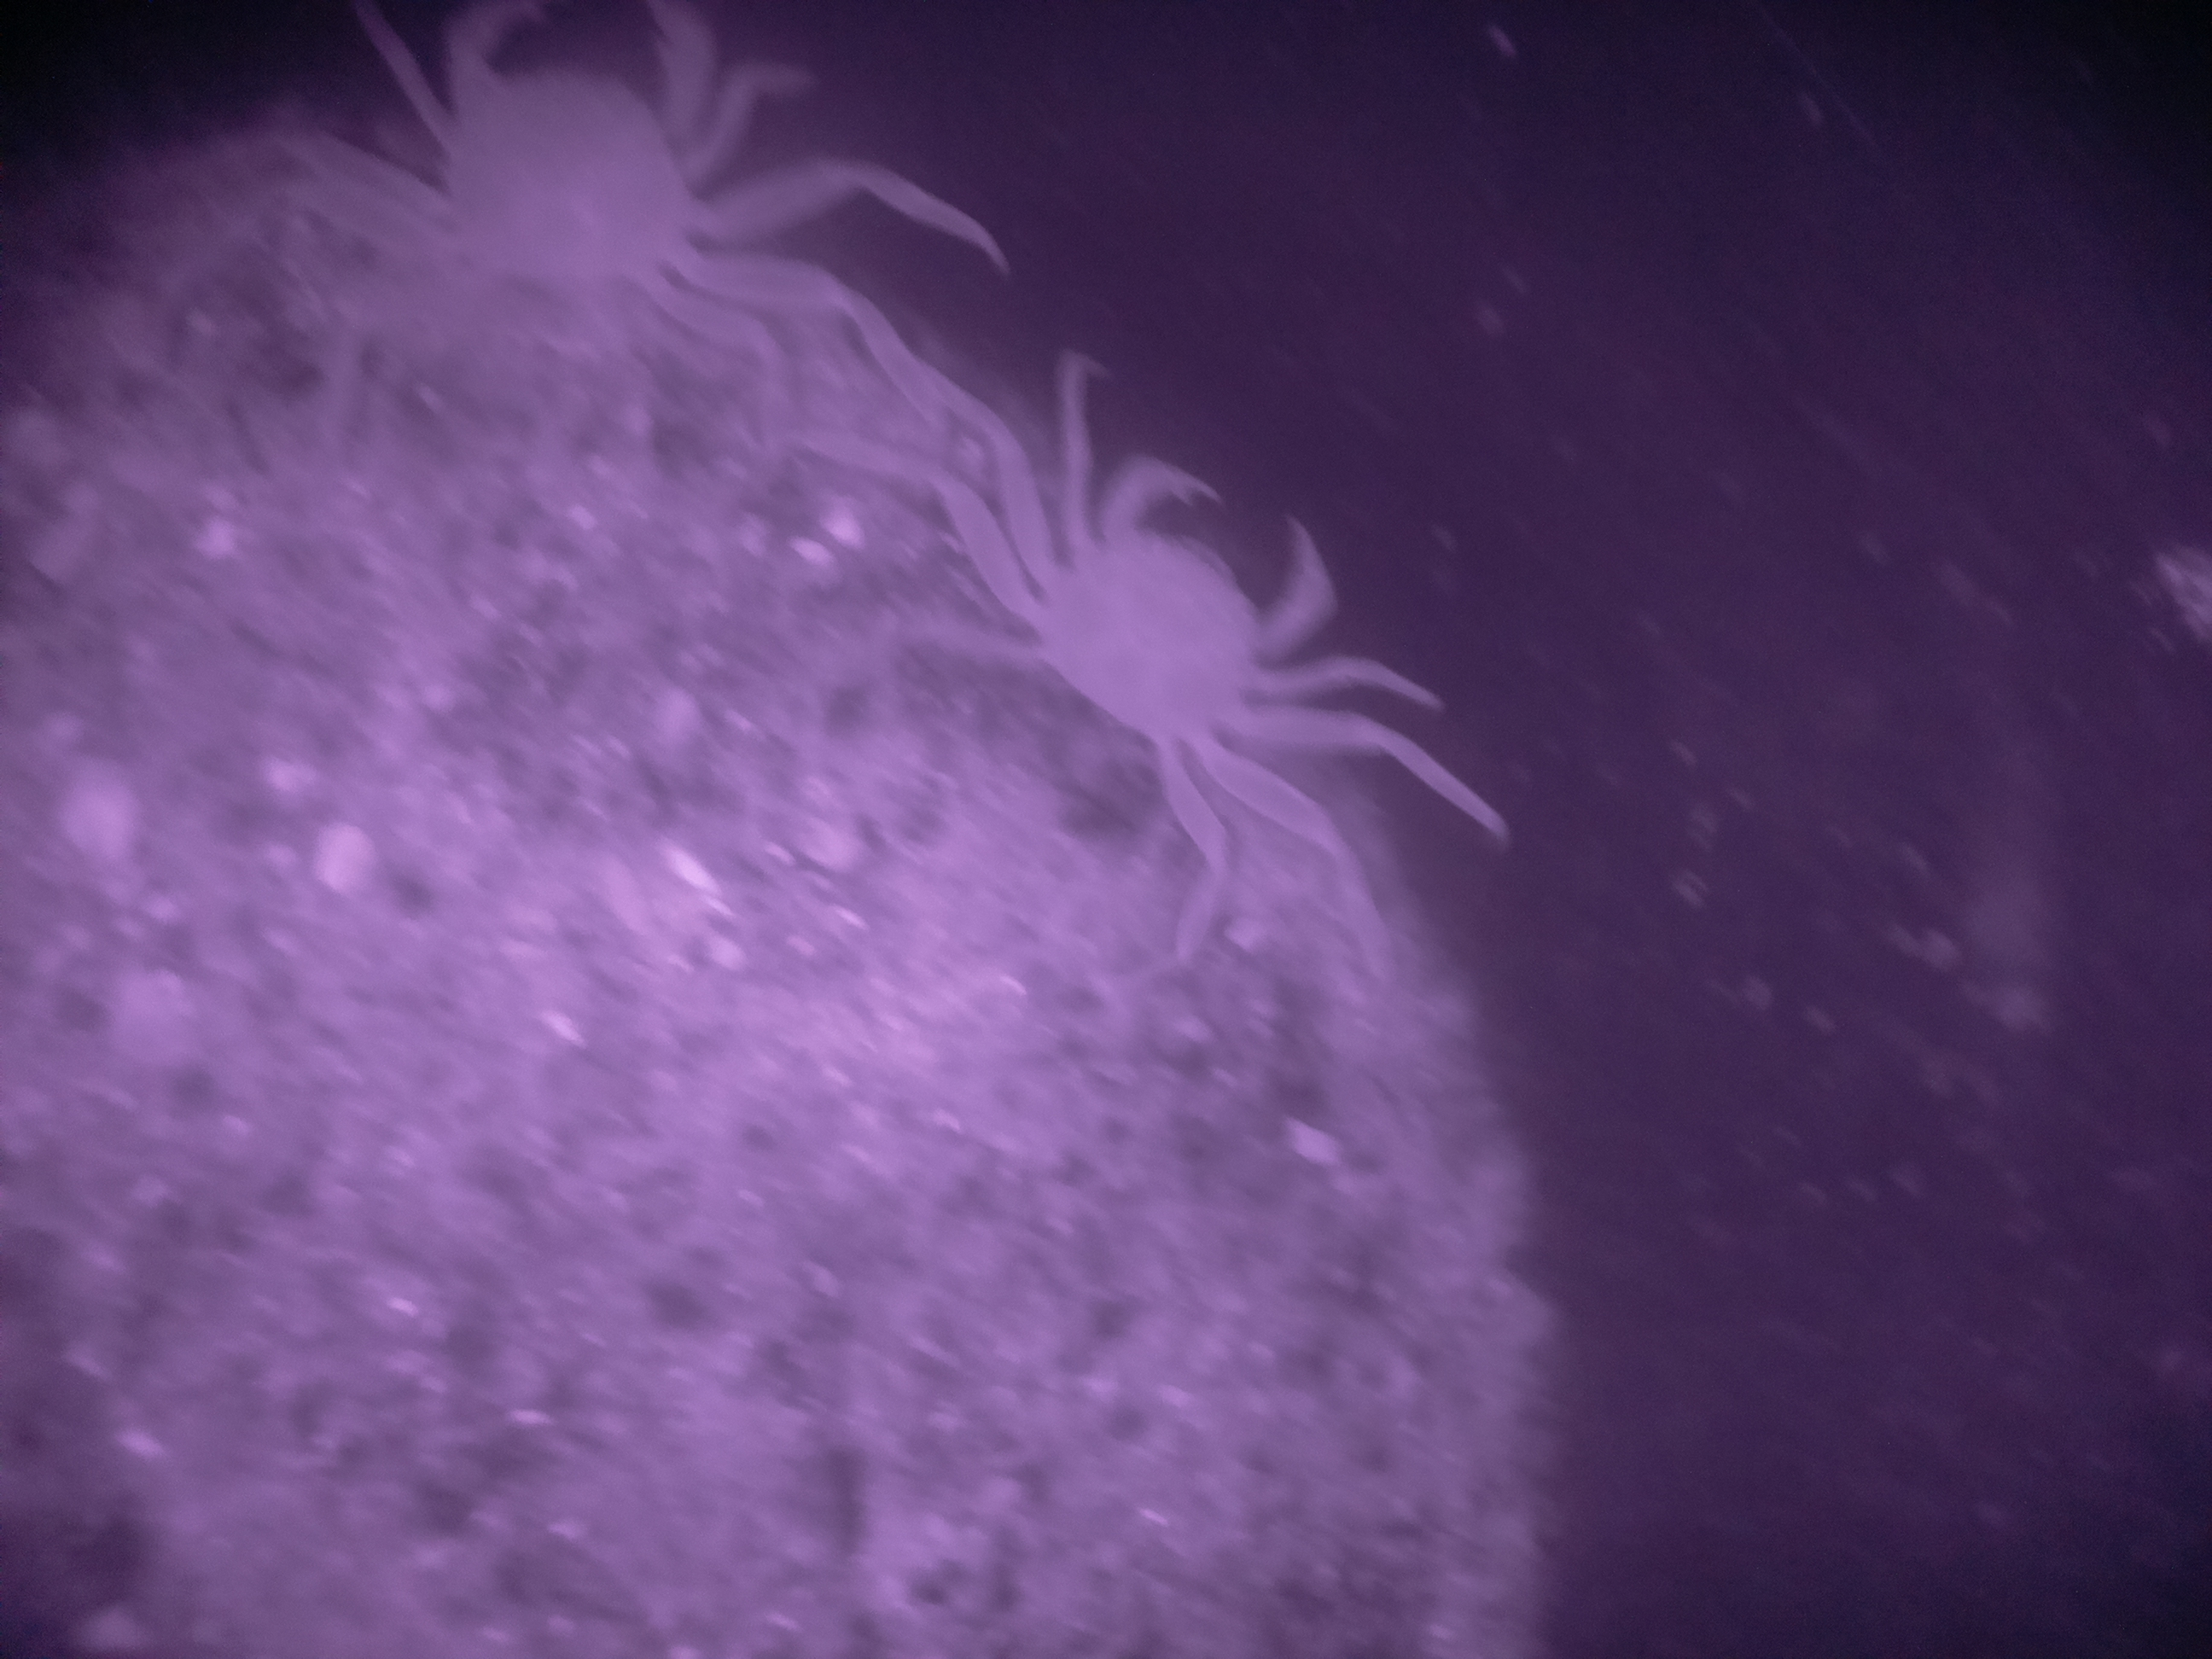Crab: (939, 416, 1395, 850)
